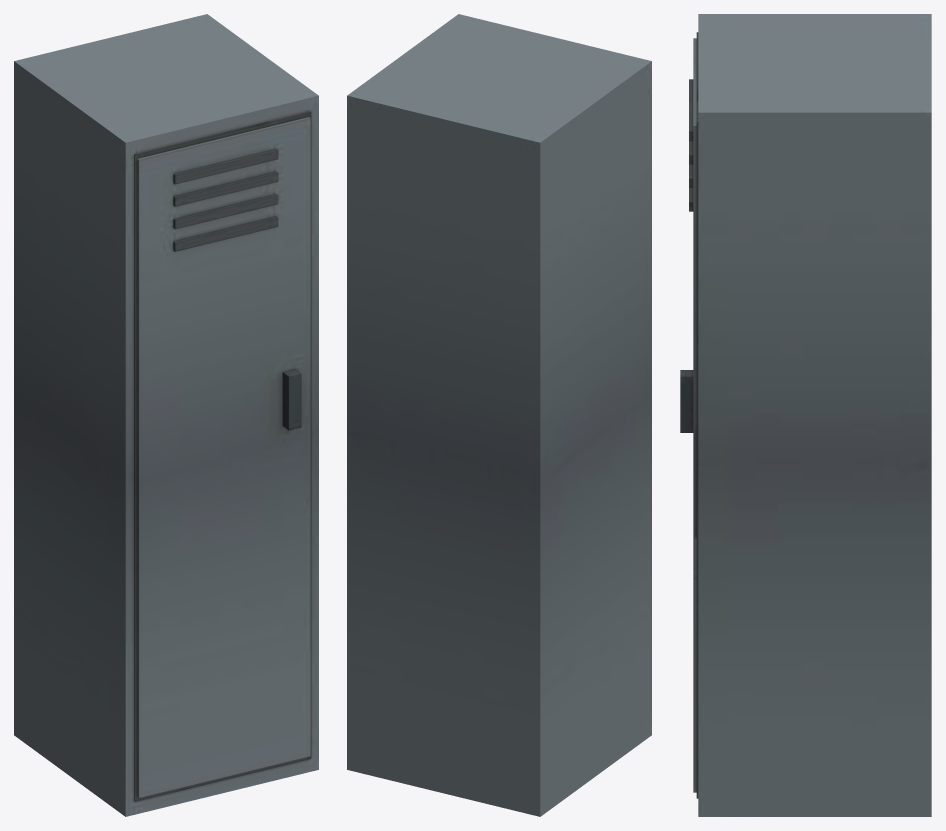
The model's file is prop_bin.glb.
3 views of the same model, side by side, from view 1: azimuth 30°, elevation 25°; view 2: azimuth 150°, elevation 25°; view 3: azimuth 270°, elevation 25° (orthographic). The views are drawn at different scales.
Visible parts, largest first — view 1: CleaningLocker; view 2: CleaningLocker; view 3: CleaningLocker.
Boxes of the visible parts, x1,y1,x2,y2 form: CleaningLocker: (14, 14, 318, 816); CleaningLocker: (347, 14, 651, 816); CleaningLocker: (680, 14, 931, 816).
Size of the model in its own units: 0.4499 by 1.5 by 0.4849.
2 materials, 2 textured.
